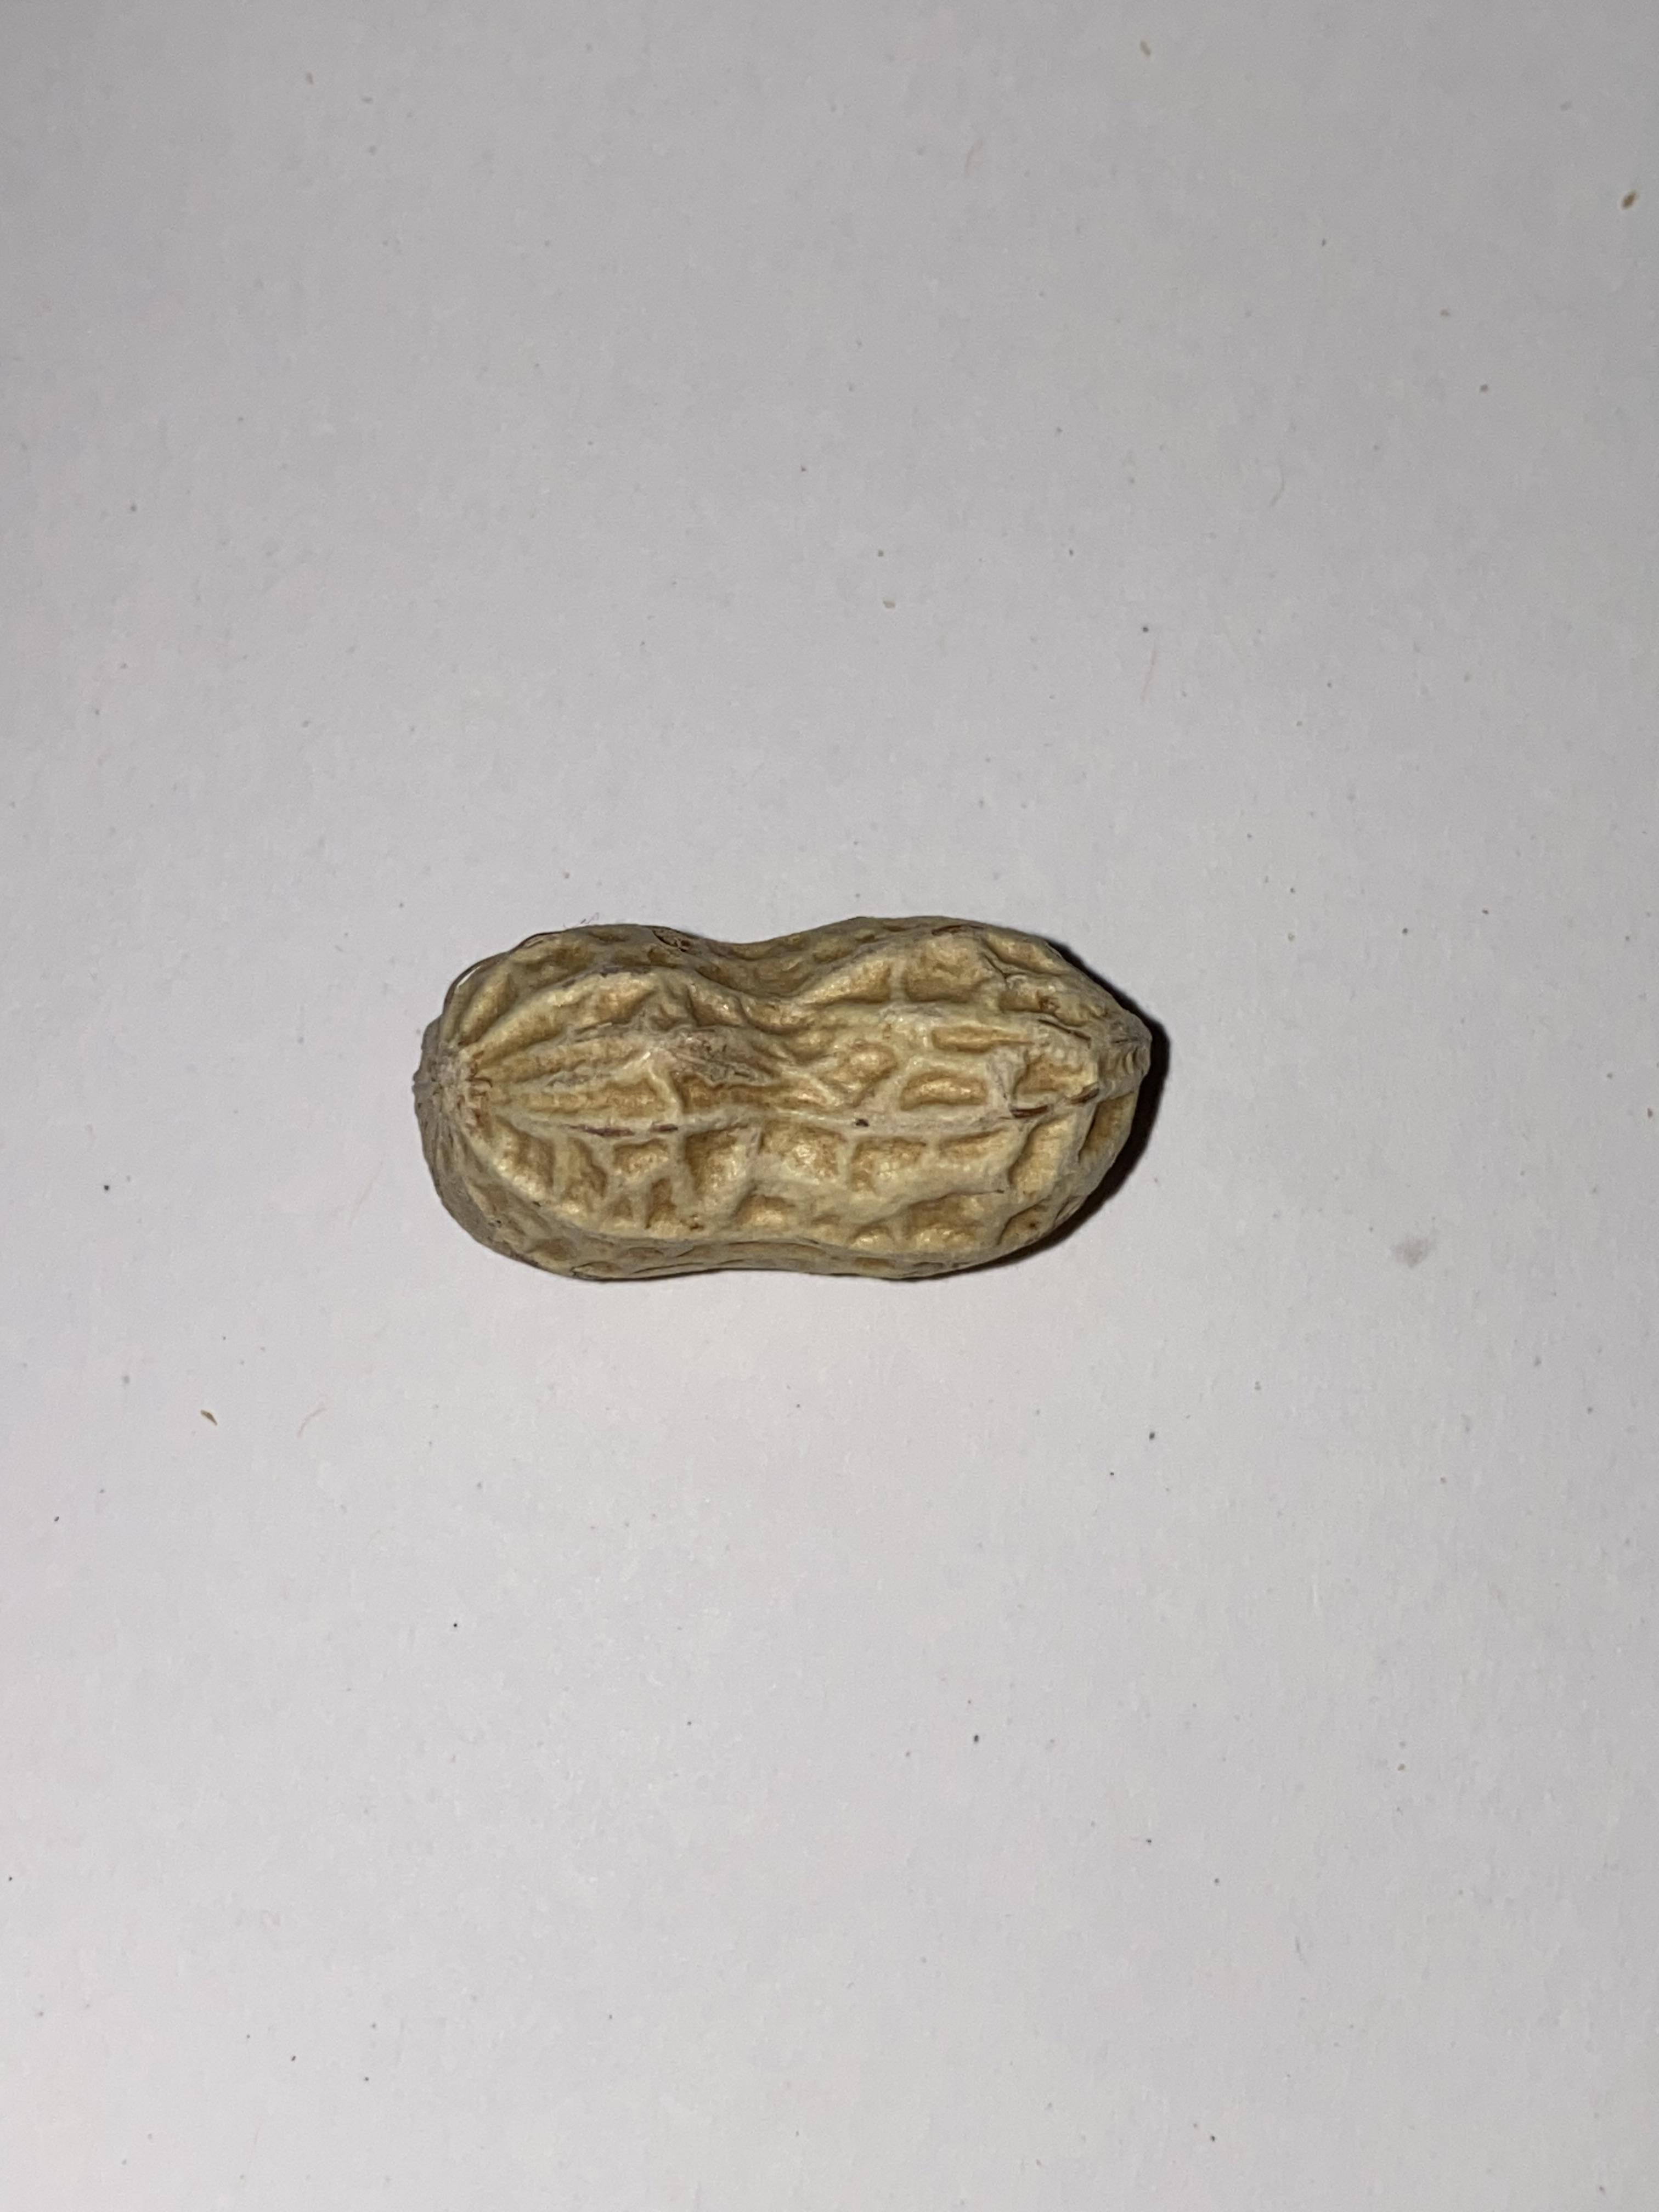kacang2: (399, 907, 1201, 1291)
